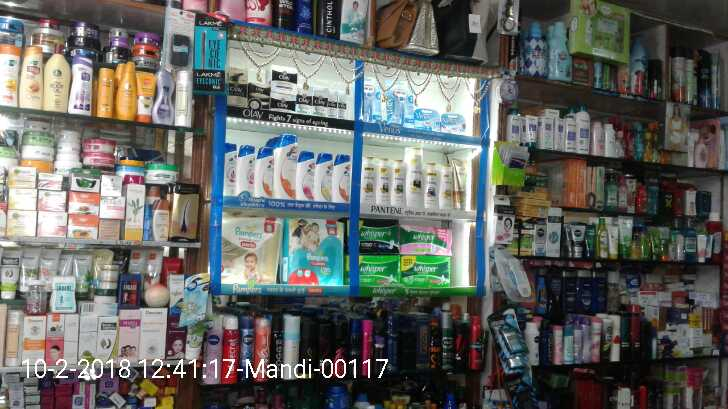ambipureVesus: (631, 32, 645, 98)
gillete: (648, 61, 661, 97)
venus: (388, 84, 415, 133), (364, 84, 388, 121), (440, 111, 465, 136), (415, 111, 440, 133)
